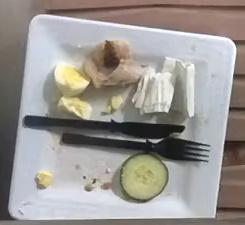cucumber: (120, 152, 167, 198)
hardboiled_egg: (55, 64, 92, 119)
